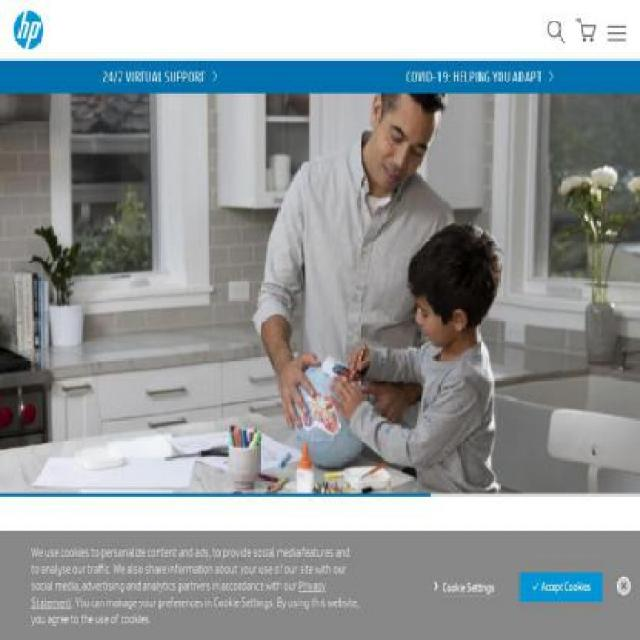button: (397, 60, 563, 94), (93, 60, 227, 94), (19, 626, 92, 640), (532, 579, 590, 595), (442, 580, 495, 597), (576, 16, 598, 46), (546, 20, 568, 48)
